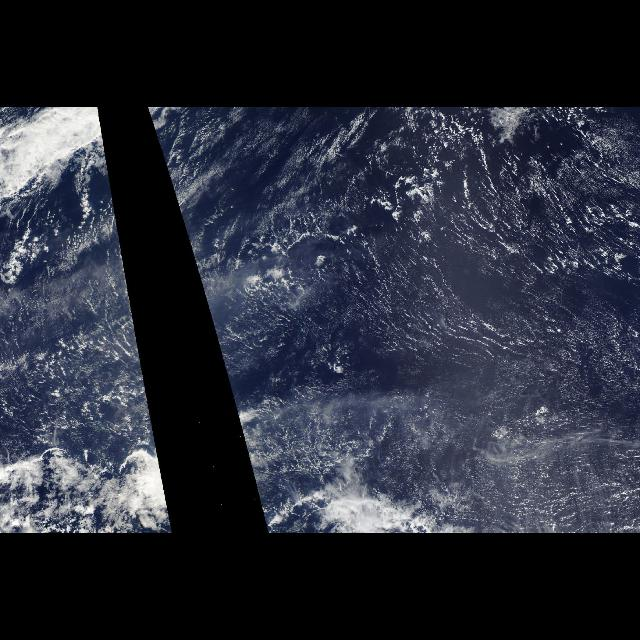Sugar: (146, 107, 640, 533), (2, 108, 134, 436)
